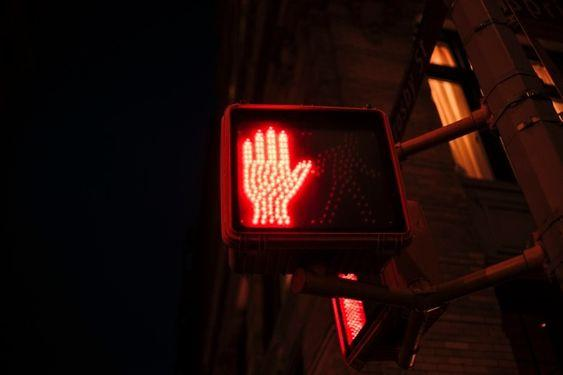red: (204, 95, 431, 270)
